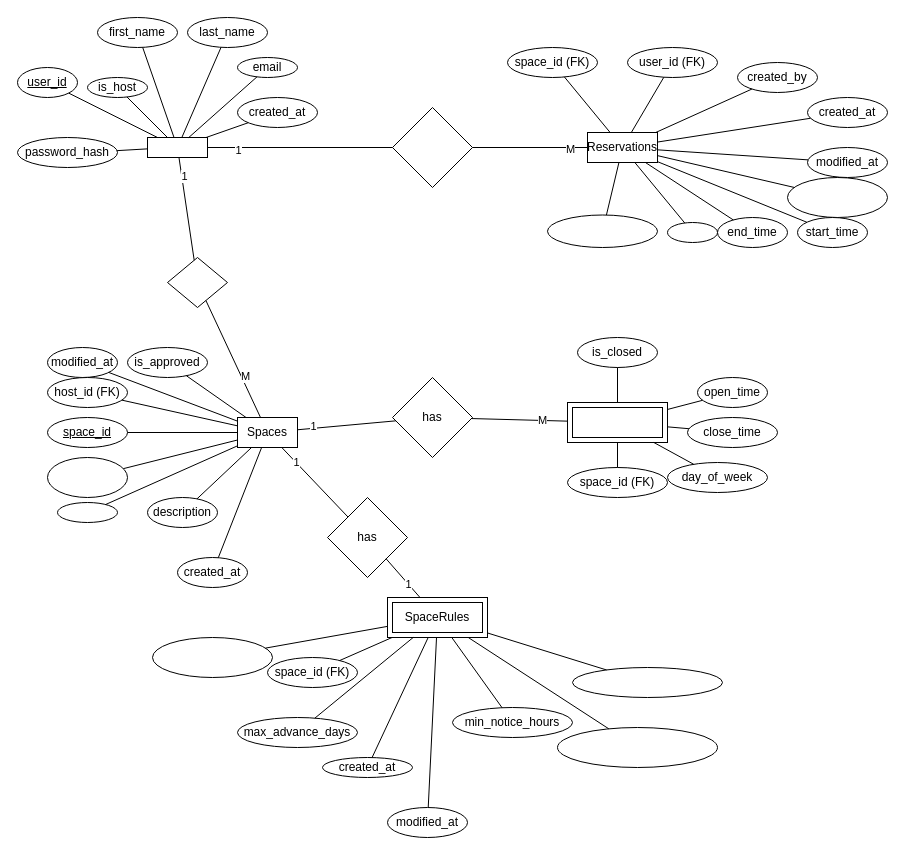
Image size: 905x863. Some labels were removed from this diagram. The shapes that lost their labels are listed below. From the top down, each one's box as (x1, y1, x2, y2) in pixels, then its label:
(146, 136, 208, 158): Users
(392, 106, 472, 188): creates
(786, 176, 888, 218): reservation_id
(546, 214, 658, 248): last_modified_by
(666, 222, 718, 242): status
(166, 256, 228, 308): hosts
(566, 402, 668, 442): OperatingHours
(46, 456, 128, 498): space_name
(56, 502, 118, 522): capacity
(152, 636, 272, 678): min_duration_minutes
(572, 666, 722, 698): max_duration_minutes
(556, 726, 718, 768): modification_deadline_hours
